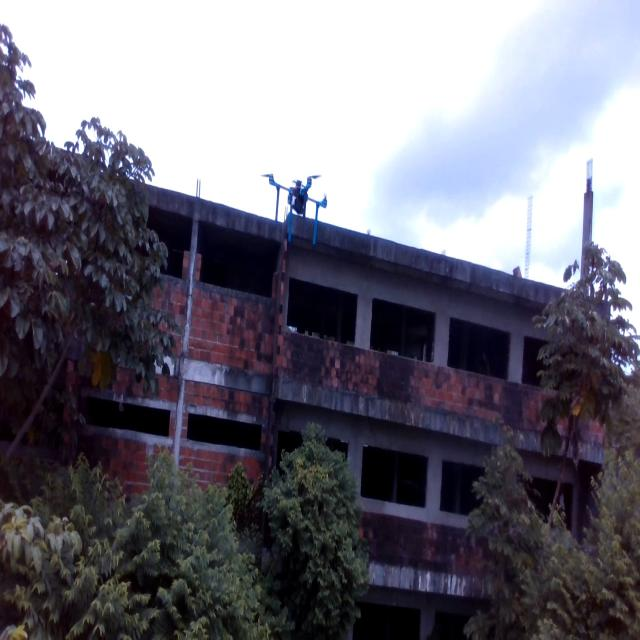-uav-: (255, 158, 340, 258)
